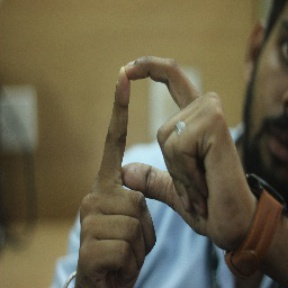D: (87, 49, 221, 205)
